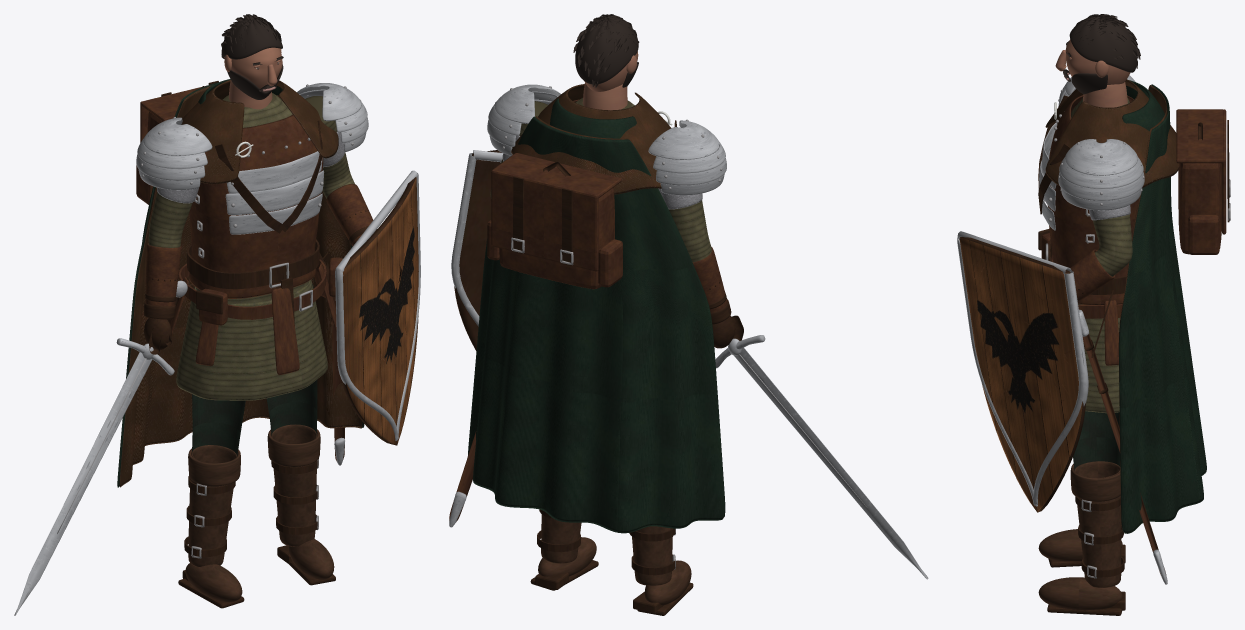
File: knight_procedural.glb
The picture shows the model from 3 angles, left to right: view 1: azimuth 30°, elevation 25°; view 2: azimuth 150°, elevation 25°; view 3: azimuth 270°, elevation 25°; orthographic projection. The views are drawn at different scales.
Visible parts, largest first — view 1: Backpack_Body, ChestLame_0, Cloak_Lining, Shield, Gambeson_Skirt, Boot_Cuff_L, Backpack_Handle, Trouser_L, Beard, Ear_L, Backpack_Buckle_-1, Cloak_Outer (+1 smaller); view 2: Cloak_Outer, Backpack_Body, ChestLame_0, Backpack_Handle, Boot_Cuff_L, Cloak_Lining, Shield, Beard, Gambeson_Skirt, Ear_L, Backpack_Buckle_-1; view 3: Cloak_Outer, Shield, Backpack_Body, ChestLame_0, Boot_Cuff_L, Cloak_Lining, Backpack_Handle, Gambeson_Skirt, Beard, Ear_L, Trouser_L, Backpack_Buckle_-1 (+1 smaller).
Part boxes in pixels (x1,y1,x2,y2): Backpack_Body: (136, 85, 375, 461); ChestLame_0: (14, 83, 420, 615); Cloak_Lining: (119, 80, 362, 487); Shield: (342, 177, 418, 445); Gambeson_Skirt: (148, 93, 354, 400); Boot_Cuff_L: (185, 424, 334, 602); Backpack_Handle: (144, 81, 401, 608); Trouser_L: (192, 284, 317, 456); Beard: (221, 14, 283, 99); Ear_L: (224, 47, 282, 109); Backpack_Buckle_-1: (57, 62, 360, 558); Cloak_Outer: (117, 79, 364, 487); Cloak_Outer: (468, 98, 725, 533); Backpack_Body: (449, 99, 727, 521); ChestLame_0: (449, 84, 928, 579); Backpack_Handle: (513, 120, 743, 615); Boot_Cuff_L: (538, 514, 691, 605); Cloak_Lining: (511, 84, 671, 194); Shield: (454, 150, 501, 351); Beard: (573, 14, 639, 87); Gambeson_Skirt: (490, 98, 711, 262); Ear_L: (582, 51, 638, 110); Backpack_Buckle_-1: (495, 86, 867, 569); Cloak_Outer: (1119, 80, 1206, 533); Shield: (959, 237, 1085, 512); Backpack_Body: (1041, 95, 1226, 574); ChestLame_0: (957, 75, 1167, 584); Boot_Cuff_L: (1038, 461, 1122, 610); Cloak_Lining: (1045, 79, 1179, 528); Backpack_Handle: (1014, 95, 1229, 615); Gambeson_Skirt: (1071, 97, 1132, 413); Beard: (1063, 14, 1140, 94); Ear_L: (1055, 39, 1130, 107); Trouser_L: (1073, 411, 1120, 470); Backpack_Buckle_-1: (1045, 58, 1230, 578).
Bounding box in the file's own units: 1.47 × 1.81 × 0.7871.
Materials: 15 (15 with a texture image).
